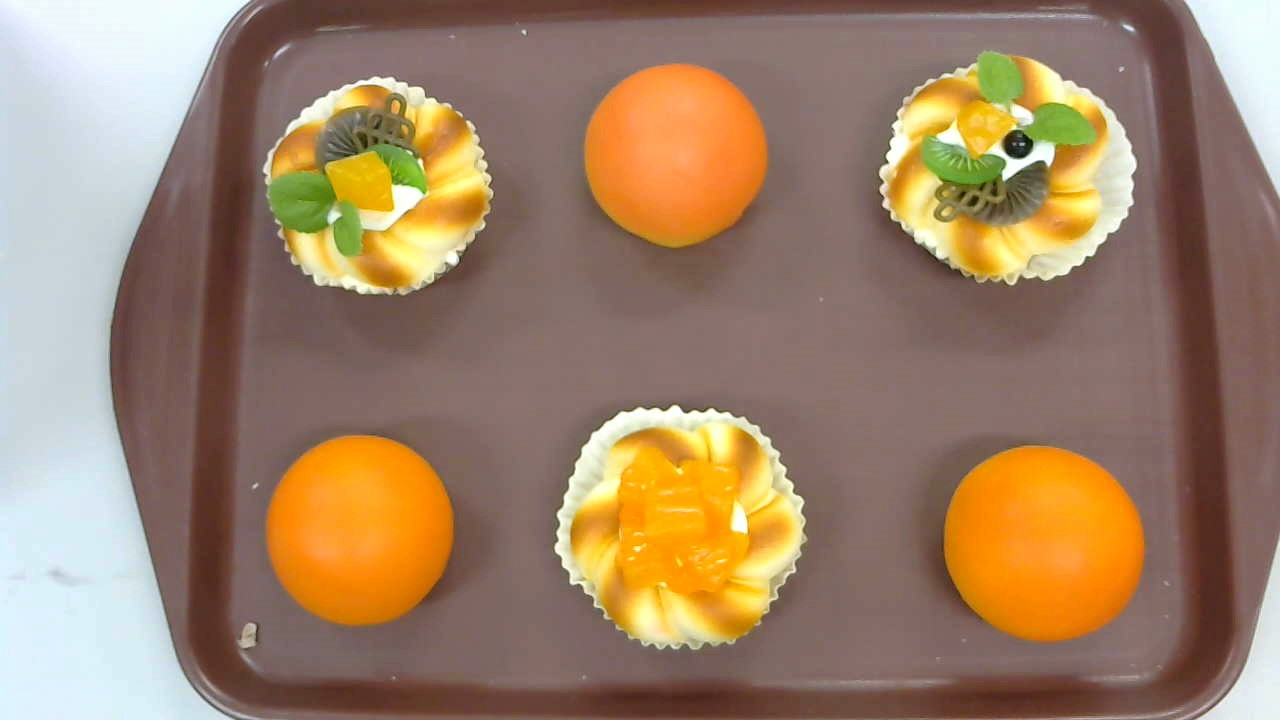bun: (941, 446, 1145, 640), (265, 433, 454, 628), (584, 63, 767, 247)
fruit tart: (878, 50, 1138, 285), (261, 75, 494, 297)
mango tart: (553, 404, 806, 652)
